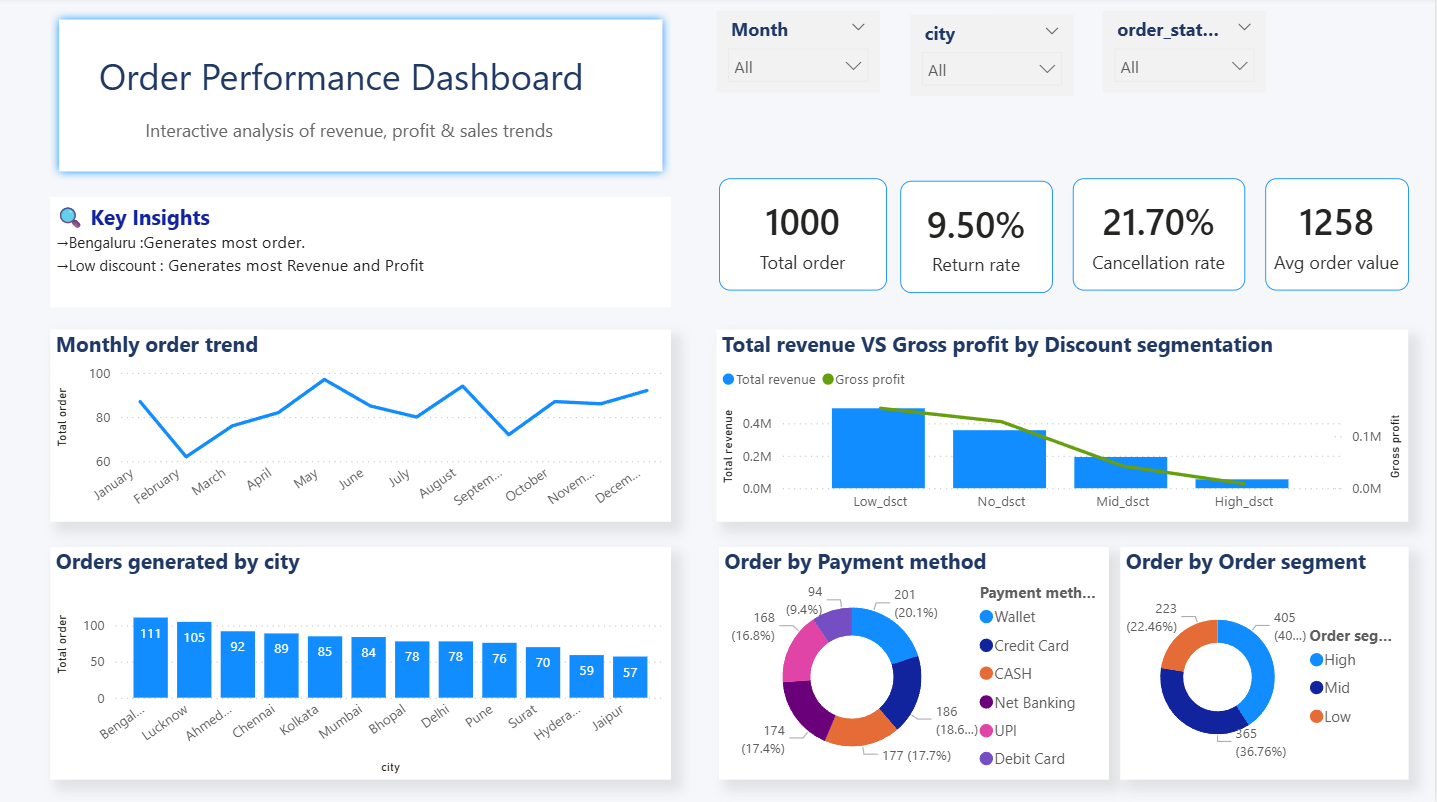

What the dashboard file says about the page in this screenshot:
{"tool":"powerbi","page":{"name":"order analysis","canvas":[1280,720],"ordinal":3},"visuals":[{"type":"card","fields":{"Values":["_Measures.Total_order"]},"box":[640.8,161.9,149.6,100.2],"z":0},{"type":"card","fields":{"Values":["_Measures.Return_Rate"]},"box":[802.7,163.3,135.8,100.2],"z":1000},{"type":"card","fields":{"Values":["_Measures.Cancelled_order_rate"]},"box":[956.4,161.9,153.7,100.2],"z":2000},{"type":"lineChart","title":"Monthly order trend","fields":{"Y":["_Measures.Total_order"],"Category":["DateTable.Month"]},"box":[45.3,296.4,553,171.5],"z":3000},{"type":"card","fields":{"Values":["_Measures.Avg_order_value"]},"box":[1128,161.9,127.6,100.2],"z":4000},{"type":"slicer","fields":{"Values":["DateTable.Month"]},"box":[639.5,12.3,145.5,72.7],"z":5000},{"type":"lineClusteredColumnComboChart","title":"Total revenue VS Gross profit by Discount segmentation","fields":{"Y":["_Measures.Total_revenue"],"Category":["sales_analytics fact_sales.discount_segmentation"],"Y2":["_Measures.Total_gross_profit"]},"box":[639.5,296.4,616.1,171.5],"z":6000},{"type":"clusteredColumnChart","title":"Orders generated by city","fields":{"Y":["_Measures.Total_order"],"Category":["sales_analytics customer_clean.city"]},"box":[45.3,489.9,553,207.2],"z":7000},{"type":"donutChart","fields":{"Y":["_Measures.Total_order"],"Category":["sales_analytics orders_clean.payment_method"]},"box":[640.8,489.9,347.2,207.2],"z":8000},{"type":"donutChart","fields":{"Y":["_Measures.Total_order"],"Category":["sales_analytics fact_sales.Order_segment"]},"box":[999,489.9,256.6,207.2],"z":9000},{"type":"slicer","fields":{"Values":["sales_analytics customer_clean.city"]},"box":[811,15.1,145.5,72.7],"z":10000},{"type":"slicer","fields":{"Values":["sales_analytics orders_clean.order_status"]},"box":[982.5,12.3,145.5,72.7],"z":11000},{"type":"shape","box":[45.3,12.3,553,150.9],"z":12000},{"type":"textbox","box":[75.5,43.9,458.3,59],"z":13000},{"type":"textbox","box":[98.8,102.9,425.4,39.8],"z":14000},{"type":"textbox","box":[45.3,178.4,553,98.8],"z":15000}]}

Visuals, with their boxes in screenshot pixels (x1, y1, x2, y2), scaled from the page's 1280x720 canvas onto the 1437x802 screenshot:
card - _Measures.Total_order: BBox(719, 180, 887, 292)
card - _Measures.Return_Rate: BBox(901, 182, 1054, 294)
card - _Measures.Cancelled_order_rate: BBox(1074, 180, 1246, 292)
"Monthly order trend" lineChart: BBox(51, 330, 672, 521)
card - _Measures.Avg_order_value: BBox(1266, 180, 1410, 292)
slicer - DateTable.Month: BBox(718, 14, 881, 95)
"Total revenue VS Gross profit by Discount segmentation" lineClusteredColumnComboChart: BBox(718, 330, 1410, 521)
"Orders generated by city" clusteredColumnChart: BBox(51, 546, 672, 776)
donutChart - _Measures.Total_order x sales_analytics orders_clean.payment_method: BBox(719, 546, 1109, 776)
donutChart - _Measures.Total_order x sales_analytics fact_sales.Order_segment: BBox(1122, 546, 1410, 776)
slicer - sales_analytics customer_clean.city: BBox(910, 17, 1074, 98)
slicer - sales_analytics orders_clean.order_status: BBox(1103, 14, 1266, 95)
shape: BBox(51, 14, 672, 182)
textbox: BBox(85, 49, 599, 115)
textbox: BBox(111, 115, 588, 159)
textbox: BBox(51, 199, 672, 309)
